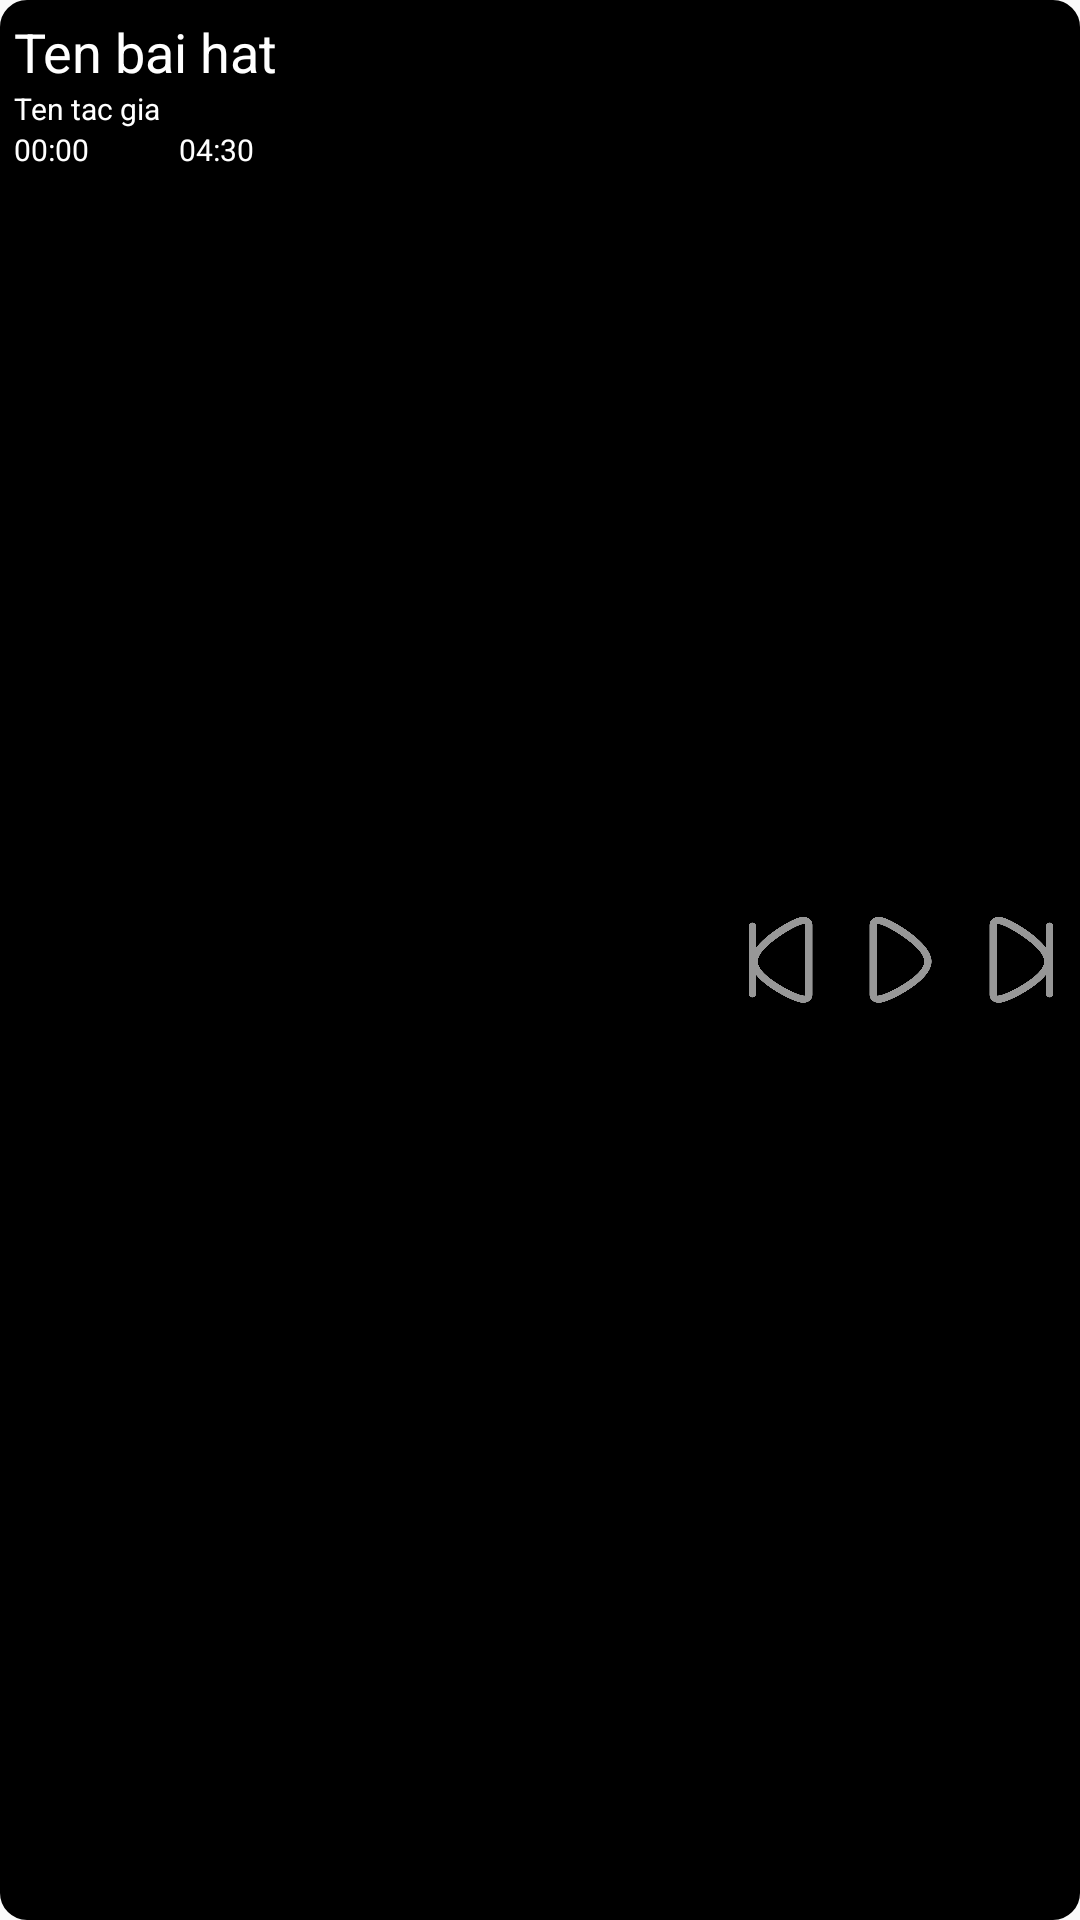

Named icons in this screenshot (1080 x 1920) and their centers, (x,y):
back: (781,960)
next: (1021,960)
play: (900,960)
